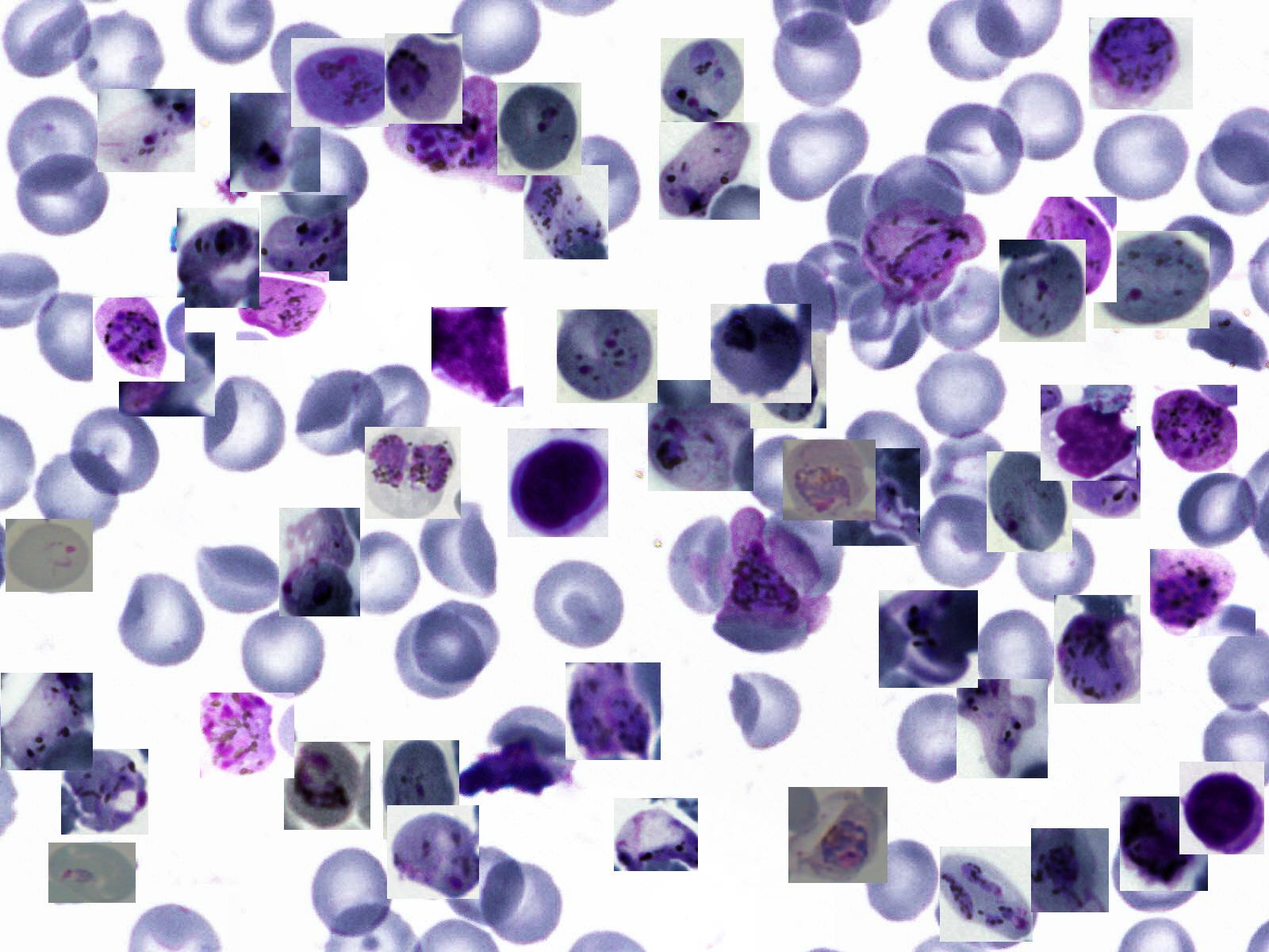Infected: (700, 504, 830, 635), (390, 75, 531, 194), (857, 198, 987, 309), (648, 380, 753, 491), (1094, 232, 1210, 329), (508, 428, 608, 537), (711, 304, 811, 403), (659, 122, 760, 220), (1023, 197, 1117, 302), (879, 590, 978, 688), (788, 787, 888, 883), (557, 309, 658, 403), (1054, 595, 1141, 704), (1089, 18, 1193, 109), (565, 662, 661, 760), (1150, 549, 1256, 636), (1041, 385, 1137, 481), (431, 307, 523, 407), (957, 679, 1048, 778), (940, 846, 1033, 942), (1, 673, 93, 770), (230, 93, 320, 192), (999, 240, 1086, 342), (365, 427, 461, 519), (279, 508, 360, 616), (291, 38, 389, 127), (387, 805, 479, 899), (987, 451, 1072, 552), (833, 448, 920, 546), (1052, 426, 1141, 519), (1120, 797, 1208, 891), (177, 208, 259, 308), (119, 332, 215, 416), (98, 89, 195, 172), (200, 693, 294, 778), (523, 165, 608, 259), (1148, 385, 1237, 473), (1179, 762, 1264, 854), (93, 298, 185, 382), (497, 83, 581, 175), (284, 742, 370, 830), (383, 740, 459, 839), (61, 749, 148, 835), (783, 440, 876, 520), (261, 195, 347, 281), (750, 332, 826, 428), (661, 38, 744, 125), (385, 33, 462, 124), (1031, 828, 1109, 912), (236, 271, 329, 340), (6, 519, 93, 592), (615, 798, 699, 871), (49, 843, 136, 903)
Uninfected: (764, 109, 872, 206), (5, 91, 104, 194), (922, 99, 1025, 198), (527, 555, 628, 653), (770, 10, 866, 111), (268, 125, 370, 218), (1089, 109, 1191, 202), (270, 13, 362, 114), (895, 688, 987, 789), (822, 169, 922, 261), (988, 71, 1083, 167), (554, 131, 641, 235), (117, 570, 206, 670), (795, 236, 891, 328), (917, 489, 1008, 585), (975, 605, 1057, 711), (915, 345, 1005, 441), (12, 149, 109, 238), (343, 362, 430, 461), (758, 508, 848, 603), (32, 287, 121, 383), (296, 365, 385, 461), (420, 499, 502, 603), (201, 374, 287, 473), (73, 10, 165, 102), (30, 441, 119, 536), (390, 612, 489, 697), (1110, 827, 1203, 917), (848, 276, 932, 374), (926, 427, 1010, 525), (235, 608, 325, 699), (308, 845, 395, 939), (839, 406, 935, 491), (666, 514, 740, 623), (69, 406, 160, 494), (920, 259, 1003, 355), (488, 704, 580, 790), (477, 858, 563, 949), (335, 529, 420, 618), (436, 843, 525, 927), (410, 598, 499, 682), (192, 540, 286, 618), (758, 259, 842, 344), (1014, 522, 1097, 608), (1147, 217, 1239, 294), (726, 665, 805, 754), (866, 152, 965, 223), (743, 432, 825, 517), (1175, 470, 1259, 551), (863, 839, 941, 926), (1185, 302, 1267, 380)
